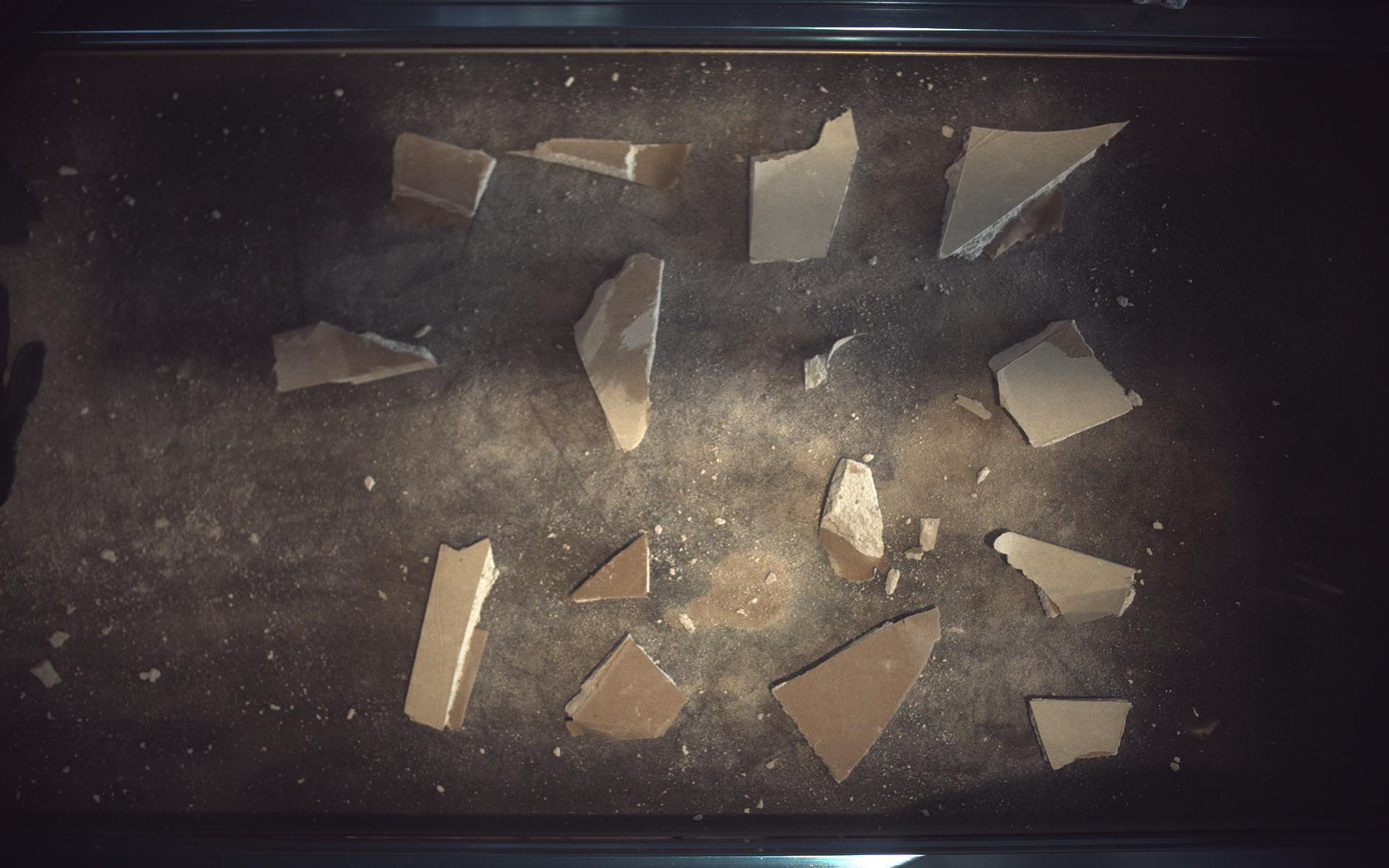gypsum_board: (774, 608, 943, 784), (940, 120, 1129, 258), (991, 319, 1145, 447), (404, 539, 499, 732), (574, 252, 665, 452), (750, 109, 859, 263), (994, 532, 1139, 626), (566, 636, 687, 741), (272, 321, 438, 392), (391, 132, 496, 226), (509, 137, 691, 190), (820, 459, 885, 583), (1033, 700, 1134, 771), (572, 535, 650, 603), (806, 333, 867, 390)
